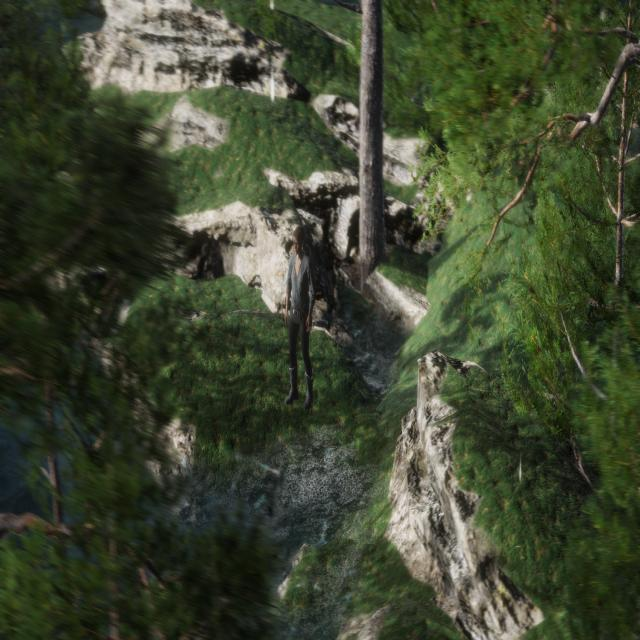Human: (279, 214, 322, 426)
